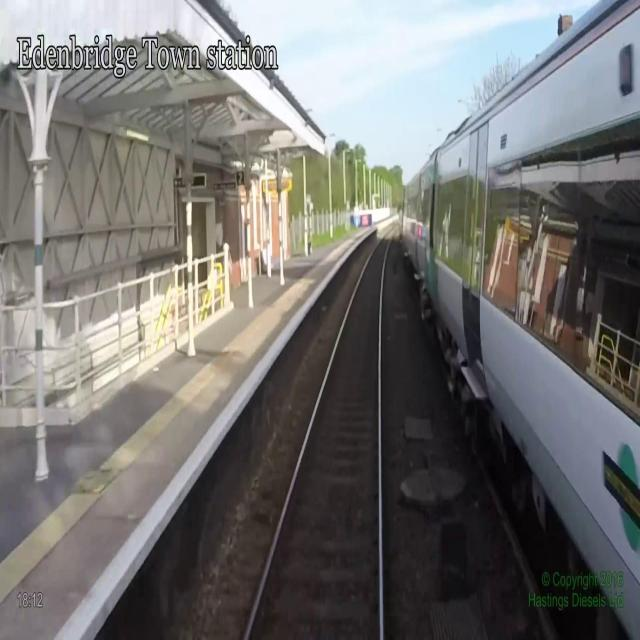rail-track: (249, 220, 398, 639)
